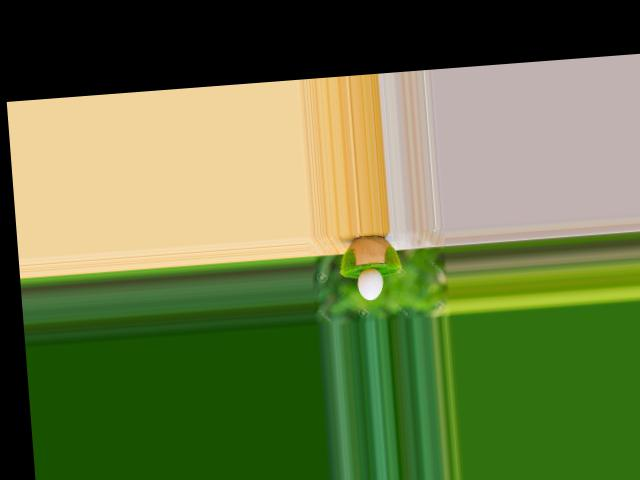egg: (357, 266, 385, 300)
